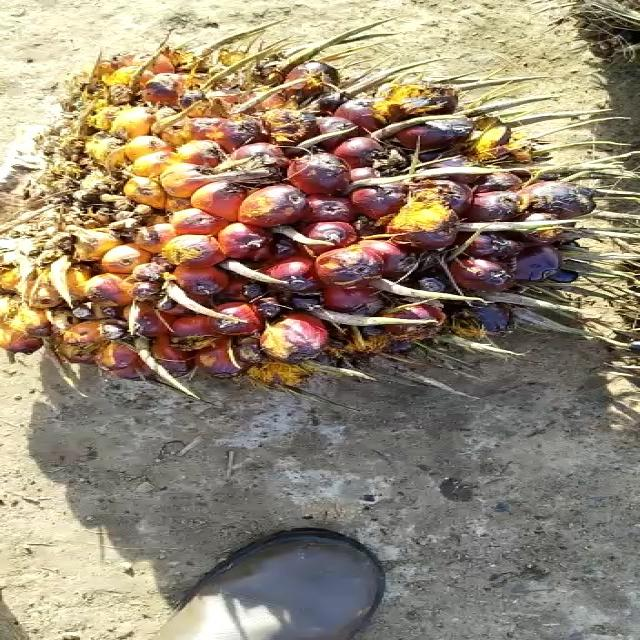palm oil: (0, 39, 578, 414)
